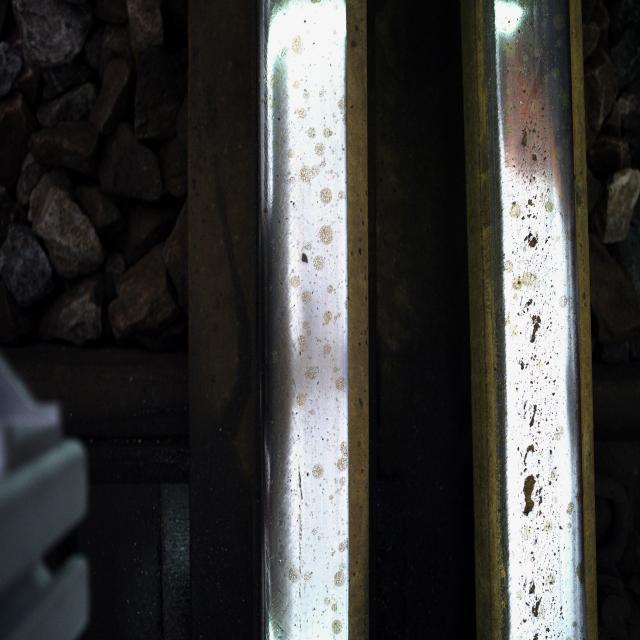scar: (505, 73, 575, 592), (280, 54, 340, 505)
